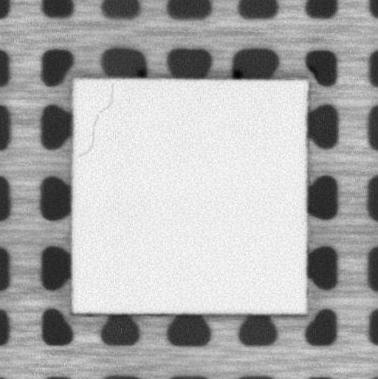DIE_CRACK: (77, 83, 115, 159)
